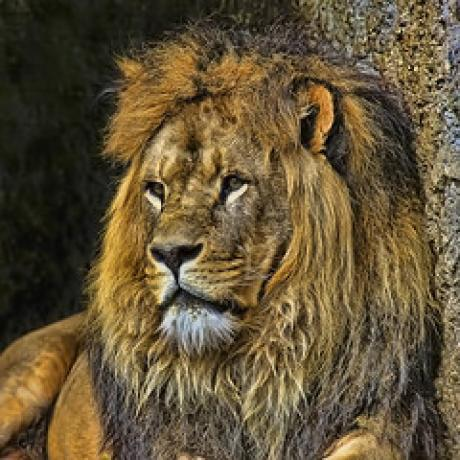Lion: (11, 15, 438, 460)
